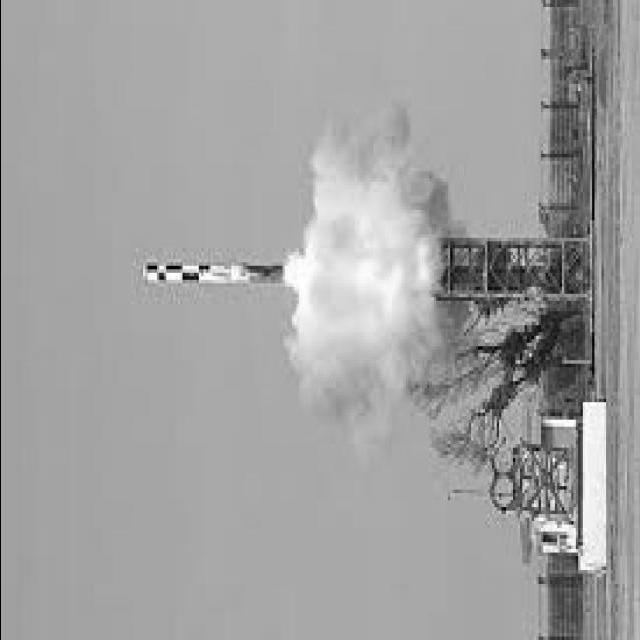Missile: (134, 246, 297, 294)
